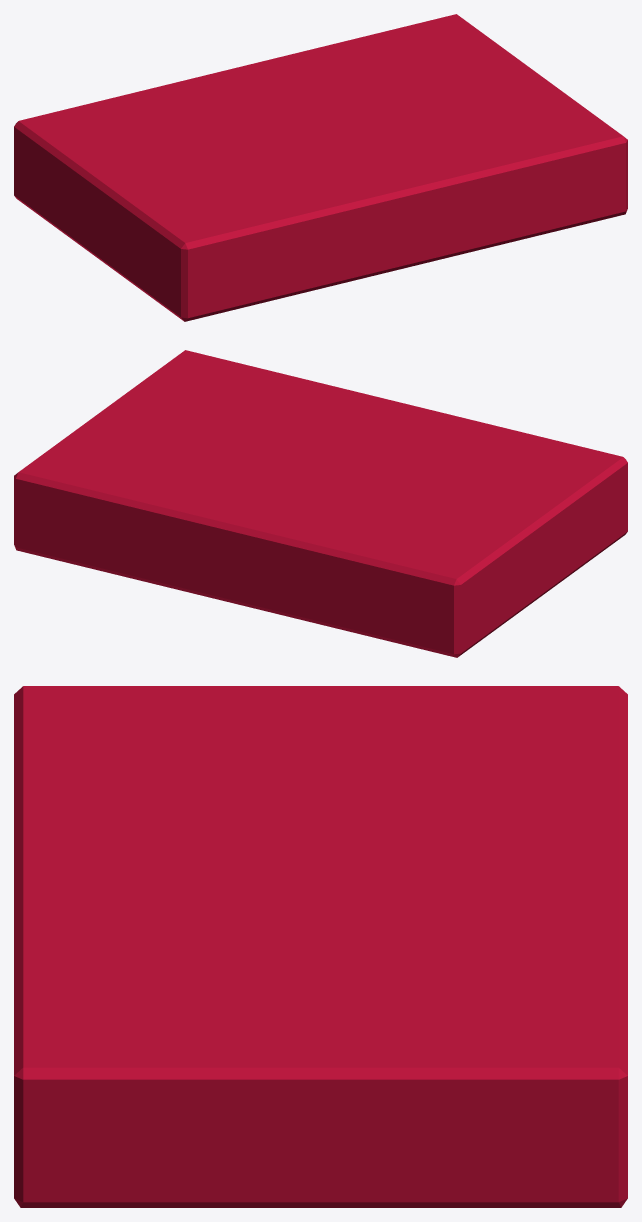
The model's file is Part_2X3_low_simple.FBX.
3 views of the same model, one above another, from view 1: azimuth 30°, elevation 25°; view 2: azimuth 150°, elevation 25°; view 3: azimuth 270°, elevation 25° (orthographic). The views are drawn at different scales.
Visible parts, largest first — view 1: Part_2X3_low_simple; view 2: Part_2X3_low_simple; view 3: Part_2X3_low_simple.
Boxes of the visible parts, x1,y1,x2,y2 form: Part_2X3_low_simple: (14,14,627,321); Part_2X3_low_simple: (14,350,627,657); Part_2X3_low_simple: (14,686,627,1207).
Bounding box in the file's own units: 300 × 200 × 50.
